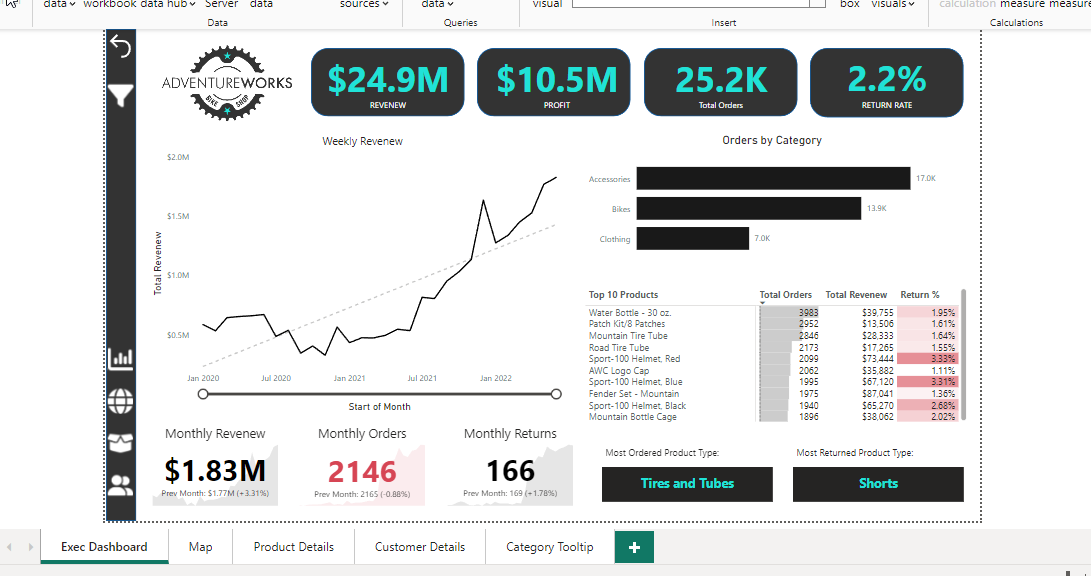

The dashboard page shown, as its layout file describes it:
{"tool":"powerbi","page":{"name":"Exec Dashboard","canvas":[1280,720],"ordinal":0},"visuals":[{"type":"image","title":"AW Logo","box":[57.1,0,244.4,158],"z":0},{"type":"card","fields":{"Values":["Measure Table.Total Revenew"]},"box":[292.7,0,243.1,156.9],"z":0,"group":"g2"},{"type":"group","id":"g1","title":"Kpi Backgrounds","box":[301.9,27.7,955.4,101.5],"z":0,"group":"g3"},{"type":"shape","box":[301.9,27.7,224.6,100],"z":0,"group":"g1"},{"type":"shape","title":"Left Nav Background","box":[1.4,0,44.3,720],"z":1000},{"type":"group","id":"g2","title":"Kpi Values ","box":[292.7,0,973.8,156.9],"z":1000,"group":"g3"},{"type":"card","fields":{"Values":["Measure Table.Return Rate"]},"box":[1023.5,0,243.1,155.4],"z":1000,"group":"g2"},{"type":"shape","box":[545.5,27.7,224.6,100],"z":1000,"group":"g1"},{"type":"group","id":"g3","title":"KPI","box":[292.7,0,974.6,156.6],"z":2000},{"type":"card","fields":{"Values":["Measure Table.Total Orders"]},"box":[780.4,0,243.1,156.9],"z":2000,"group":"g2"},{"type":"shape","box":[789.1,27.7,224.6,100],"z":2000,"group":"g1"},{"type":"card","fields":{"Values":["Measure Table.Total Profit"]},"box":[539.4,0,243.1,156.9],"z":3000,"group":"g2"},{"type":"shape","box":[1032.7,27.7,224.6,101.5],"z":3000,"group":"g1"},{"type":"lineChart","title":"Weekly Revenew","fields":{"Y":["Measure Table.Total Revenew"],"Category":["Calendar Lookup.Year","Calendar Lookup.Start of Quarter","Calendar Lookup.Date Hierarchy.Start of Year","Calendar Lookup.Date Hierarchy.Start of Month"]},"box":[64.4,152.2,624.9,414.1],"z":3000},{"type":"kpi","title":"Monthly Revenew","fields":{"Indicator":["Measure Table.Total Revenew"],"TrendLine":["Calendar Lookup.Start of Month"],"Goal":["Measure Table.Previous Month Revenew"]},"box":[64.6,578.5,193.8,124.6],"z":4000},{"type":"kpi","title":"Monthly Orders","fields":{"TrendLine":["Calendar Lookup.Start of Month"],"Indicator":["Measure Table.Total Orders"],"Goal":["Measure Table.Previous Month Orders"]},"box":[280,578.5,193.8,124.6],"z":5000},{"type":"kpi","title":"Monthly Returns","fields":{"TrendLine":["Calendar Lookup.Start of Month"],"Indicator":["Measure Table.Total Returns"],"Goal":["Measure Table.Previous Month Return"]},"box":[495.4,578.5,193.8,124.6],"z":6000},{"type":"barChart","title":"Orders by Category","fields":{"Category":["Product Categories Lookup.CategoryName"],"Y":["Measure Table.Total Orders"]},"box":[698.5,152.3,556.9,195.4],"z":7000},{"type":"pivotTable","fields":{"Rows":["Product Lookup.ProductName"],"Values":["Measure Table.Total Orders","Measure Table.Total Revenew","Measure Table.Return Rate"]},"box":[698.5,374.2,568.2,204.5],"z":8000},{"type":"card","fields":{"Values":["Min(Product Subcategories Lookup.SubcategoryName)"]},"box":[727.3,641,250.2,51.2],"z":9000},{"type":"textbox","box":[727.3,605.9,187.3,35.1],"z":10000},{"type":"card","fields":{"Values":["Min(Product Subcategories Lookup.SubcategoryName)"]},"box":[1006.8,641,250.2,51.2],"z":11000},{"type":"textbox","box":[1006.8,605.9,203.4,35.1],"z":12000},{"type":"actionButton","box":[0,0,45.5,48.5],"z":13000},{"type":"actionButton","box":[0,453,45.5,59.1],"z":14000},{"type":"actionButton","box":[0,576.3,45.5,59.1],"z":15000},{"type":"actionButton","box":[0,514.6,45.5,59.1],"z":16000},{"type":"actionButton","box":[0,637.9,45.5,59.1],"z":17000},{"type":"actionButton","box":[0,68.6,45.7,58.6],"z":18000}]}

Visuals, with their boxes on the page's 1280x720 design canvas (x1, y1, x2, y2). These are canvas units, not pixel positions in the 1091x576 screenshot, which may show the page scaled, cropped or inside an application window:
"AW Logo" image: box(57, 0, 302, 158)
card - Measure Table.Total Revenew: box(293, 0, 536, 157)
"Kpi Backgrounds" group: box(302, 28, 1257, 129)
shape: box(302, 28, 526, 128)
"Left Nav Background" shape: box(1, 0, 46, 720)
"Kpi Values " group: box(293, 0, 1266, 157)
card - Measure Table.Return Rate: box(1024, 0, 1267, 155)
shape: box(546, 28, 770, 128)
"KPI" group: box(293, 0, 1267, 157)
card - Measure Table.Total Orders: box(780, 0, 1024, 157)
shape: box(789, 28, 1014, 128)
card - Measure Table.Total Profit: box(539, 0, 782, 157)
shape: box(1033, 28, 1257, 129)
"Weekly Revenew" lineChart: box(64, 152, 689, 566)
"Monthly Revenew" kpi: box(65, 578, 258, 703)
"Monthly Orders" kpi: box(280, 578, 474, 703)
"Monthly Returns" kpi: box(495, 578, 689, 703)
"Orders by Category" barChart: box(698, 152, 1255, 348)
pivotTable - Product Lookup.ProductName x Measure Table.Total Orders: box(698, 374, 1267, 579)
card - Min(Product Subcategories Lookup.SubcategoryName): box(727, 641, 978, 692)
textbox: box(727, 606, 915, 641)
card - Min(Product Subcategories Lookup.SubcategoryName): box(1007, 641, 1257, 692)
textbox: box(1007, 606, 1210, 641)
actionButton: box(0, 0, 46, 48)
actionButton: box(0, 453, 46, 512)
actionButton: box(0, 576, 46, 635)
actionButton: box(0, 515, 46, 574)
actionButton: box(0, 638, 46, 697)
actionButton: box(0, 69, 46, 127)
